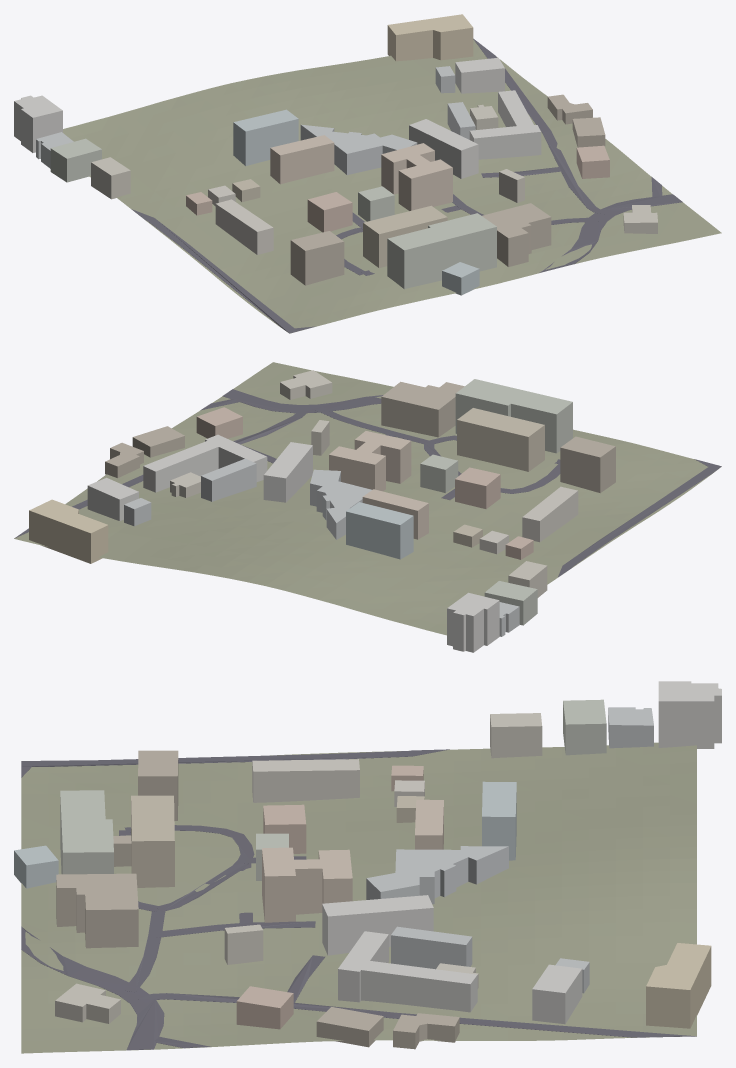
File: chunk_0_3.glb
3 renders of one model, top to bottom at view 1: azimuth 30°, elevation 25°; view 2: azimuth 150°, elevation 25°; view 3: azimuth 270°, elevation 25°, orthographic. The views are drawn at different scales.
Visible parts, largest first — view 1: geometry_32, geometry_3, geometry_2, geometry_28, geometry_19, geometry_24, geometry_23, geometry_13, geometry_17, geometry_5, geometry_25, geometry_22 (+20 smaller); view 2: geometry_32, geometry_25, geometry_3, geometry_2, geometry_28, geometry_24, geometry_19, geometry_13, geometry_30, geometry_17, geometry_23, geometry_22 (+23 smaller); view 3: geometry_32, geometry_19, geometry_2, geometry_24, geometry_23, geometry_4, geometry_28, geometry_22, geometry_3, geometry_30, geometry_25, geometry_33 (+22 smaller).
Part boxes in pixels (x1,y1,x2,y2): geometry_32: [63, 39, 721, 333]; geometry_3: [387, 213, 496, 289]; geometry_2: [381, 143, 452, 210]; geometry_28: [387, 14, 473, 61]; geometry_19: [469, 90, 541, 159]; geometry_24: [482, 203, 551, 267]; geometry_23: [300, 124, 417, 175]; geometry_13: [233, 109, 298, 166]; geometry_17: [290, 231, 344, 285]; geometry_5: [270, 135, 334, 184]; geometry_25: [363, 205, 447, 268]; geometry_22: [409, 119, 478, 178]; geometry_32: [14, 362, 718, 635]; geometry_25: [457, 408, 544, 471]; geometry_3: [455, 379, 572, 453]; geometry_2: [329, 431, 411, 491]; geometry_28: [29, 499, 108, 563]; geometry_24: [381, 381, 464, 437]; geometry_19: [143, 434, 267, 492]; geometry_13: [346, 502, 413, 559]; geometry_30: [447, 592, 499, 652]; geometry_17: [560, 436, 615, 493]; geometry_23: [310, 469, 371, 539]; geometry_22: [263, 442, 312, 502]; geometry_32: [21, 742, 696, 1053]; geometry_19: [338, 931, 477, 1012]; geometry_2: [262, 847, 352, 922]; geometry_24: [56, 873, 138, 948]; geometry_23: [366, 846, 508, 904]; geometry_4: [252, 759, 359, 802]; geometry_28: [646, 943, 711, 1028]; geometry_22: [322, 895, 433, 955]; geometry_3: [60, 790, 113, 874]; geometry_30: [658, 681, 721, 748]; geometry_25: [131, 795, 174, 887]; geometry_33: [21, 926, 164, 1050].
Size of the model in its own units: 270 by 29.61 by 262.
